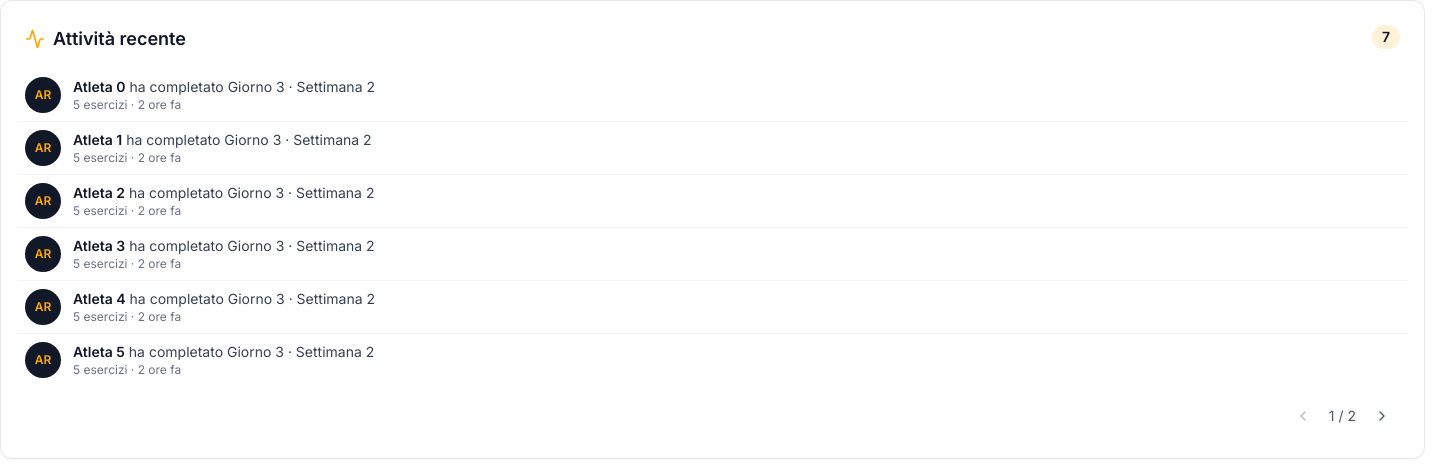
Test: ActivityFeedWidget › shows 6 sessions per page
Expected: the number of links is 6, [25, 77, 375, 113]; [25, 130, 372, 166]; [25, 183, 374, 219]; [25, 236, 375, 272]; [25, 289, 375, 325]; [25, 342, 374, 378]
Click the button named "Pagina successiva" at (1382, 416), box [1364, 398, 1400, 434]
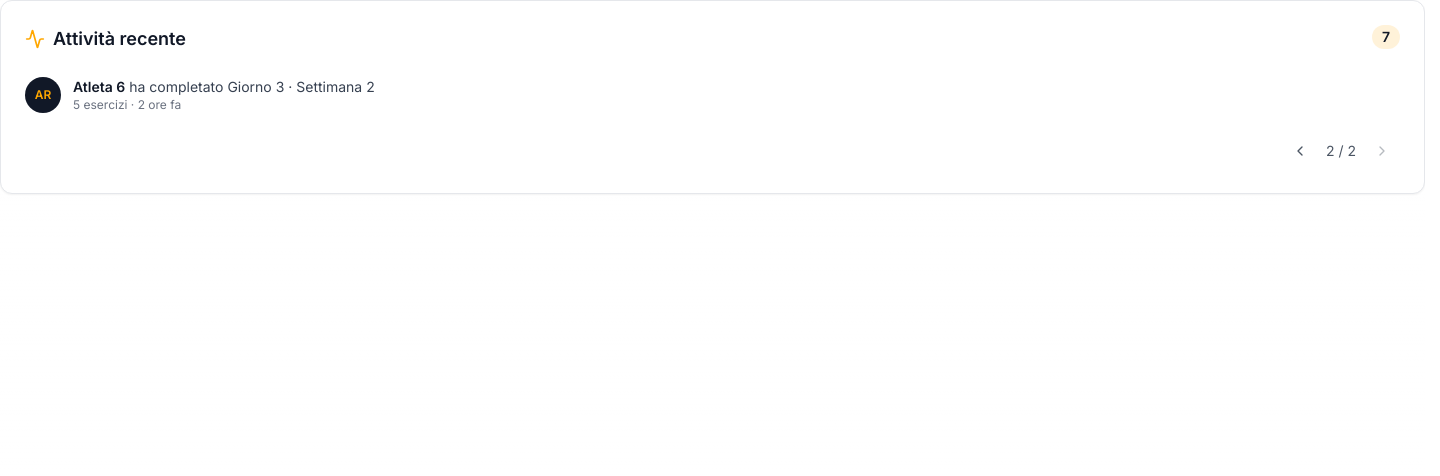
Expected: the number of links is 1, [25, 77, 375, 113]
Expected: the link shows "Atleta 6", [25, 77, 375, 113]
